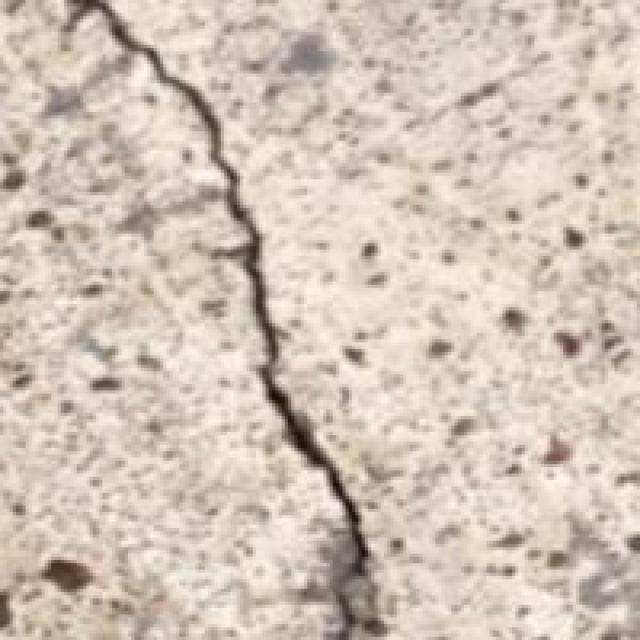Crack: (90, 0, 419, 637)
